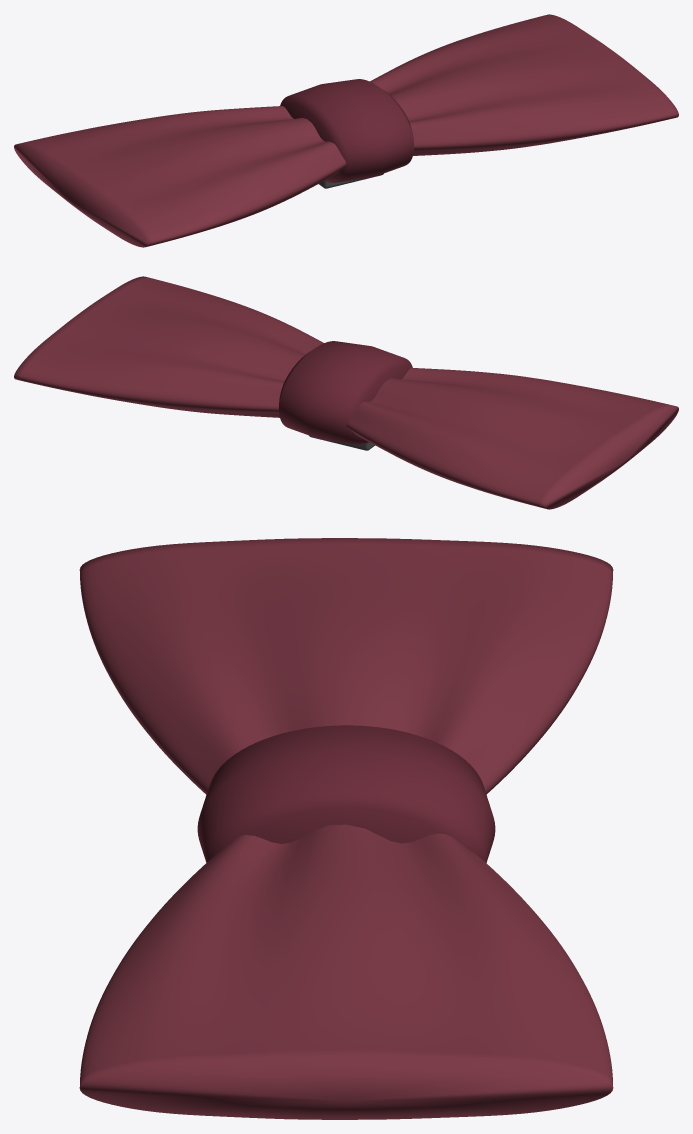
3 renders of one model, top to bottom at view 1: azimuth 30°, elevation 25°; view 2: azimuth 150°, elevation 25°; view 3: azimuth 270°, elevation 25°, orthographic. The views are drawn at different scales.
Visible parts, largest first — view 1: Whole original folded two-wing fabric bow, Central gathered fabric wrap; view 2: Whole original folded two-wing fabric bow, Central gathered fabric wrap; view 3: Whole original folded two-wing fabric bow, Central gathered fabric wrap.
Part boxes in pixels (x1=…): Whole original folded two-wing fabric bow: x1=14, y1=14, x2=678, y2=247; Central gathered fabric wrap: x1=280, y1=79, x2=413, y2=182; Whole original folded two-wing fabric bow: x1=14, y1=276, x2=678, y2=509; Central gathered fabric wrap: x1=279, y1=341, x2=412, y2=444; Whole original folded two-wing fabric bow: x1=79, y1=538, x2=613, y2=1119; Central gathered fabric wrap: x1=197, y1=725, x2=495, y2=862.
Bounding box in the file's own units: 12.8 × 1.84 × 5.3.
